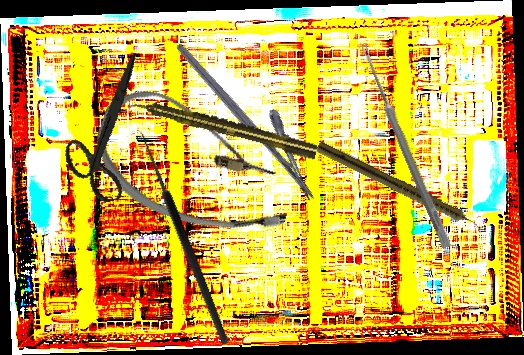Cannula: (80, 78, 311, 253)
Handpiece: (313, 140, 487, 236), (127, 93, 319, 162)
Hook Surgical: (125, 128, 232, 350)
Iris Scissors: (44, 52, 173, 210)
Needle Holder: (174, 24, 337, 203)
Surgical Spoon: (356, 42, 454, 249)
